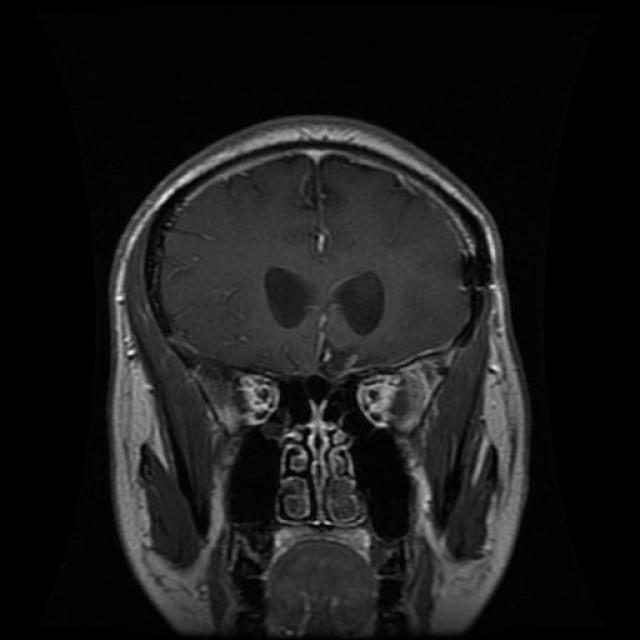glioma: (260, 265, 396, 341)
